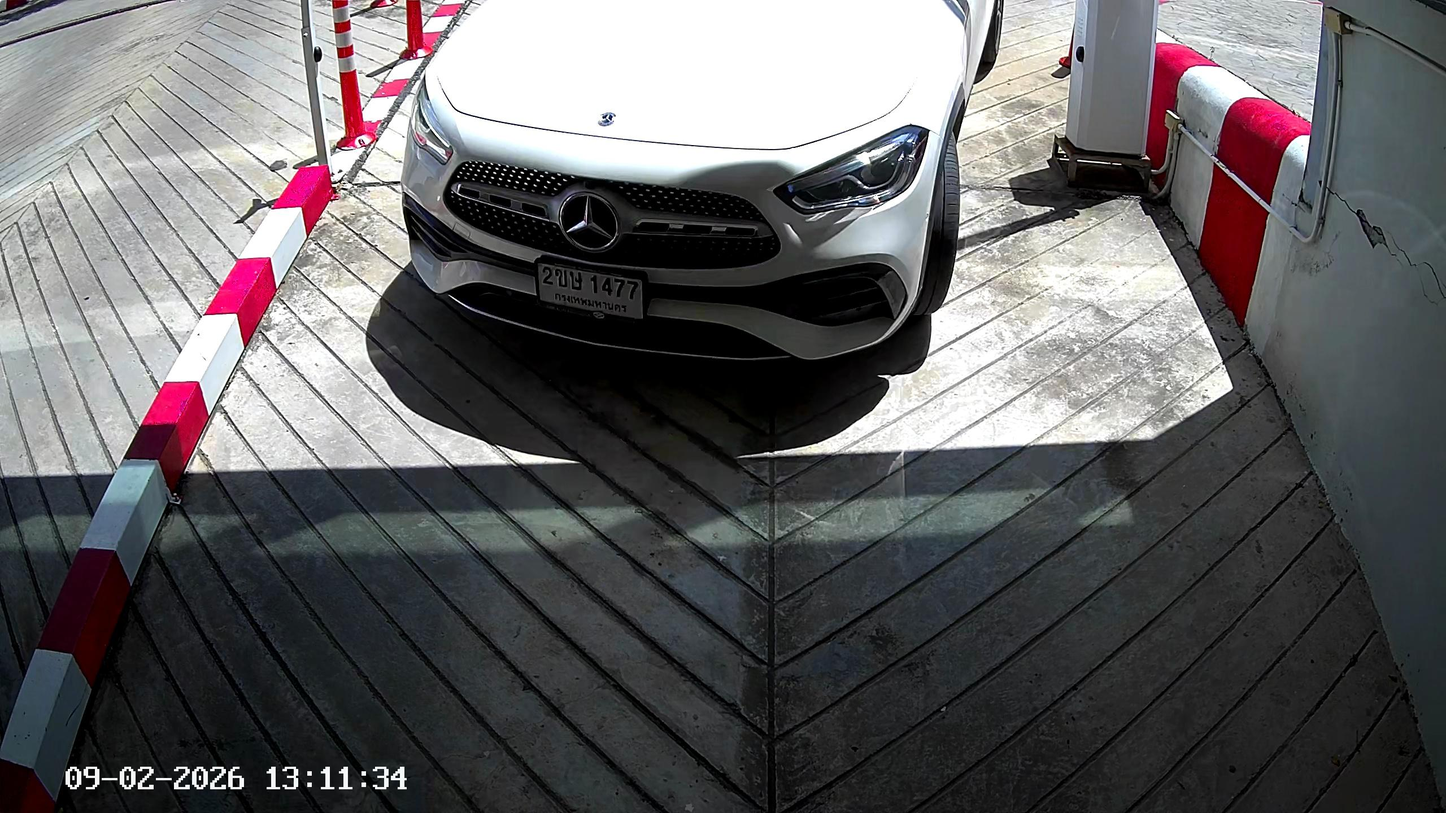car: (395, 1, 1005, 370)
license-plate: (533, 255, 647, 324)
